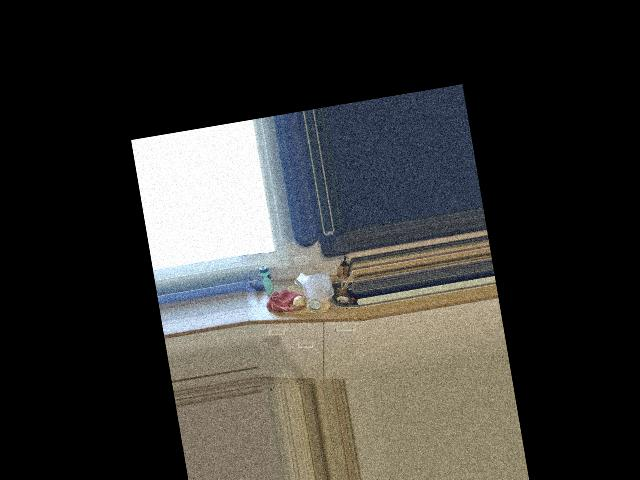onion: (288, 294, 306, 314)
